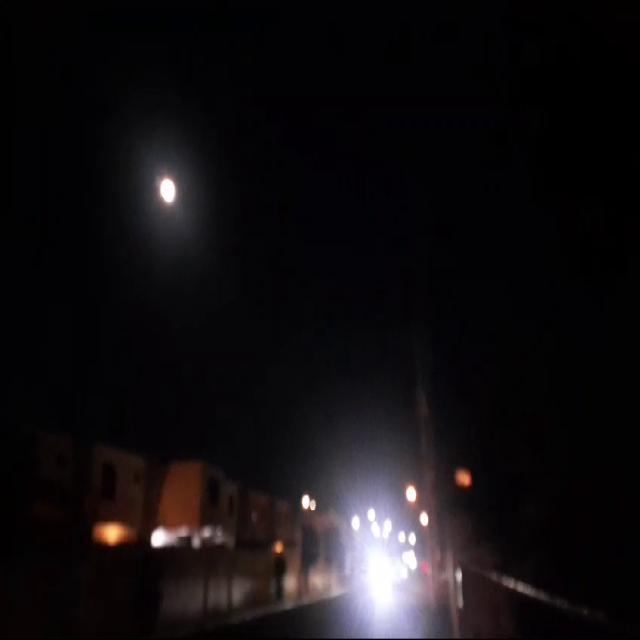moon: (162, 178, 180, 212)
